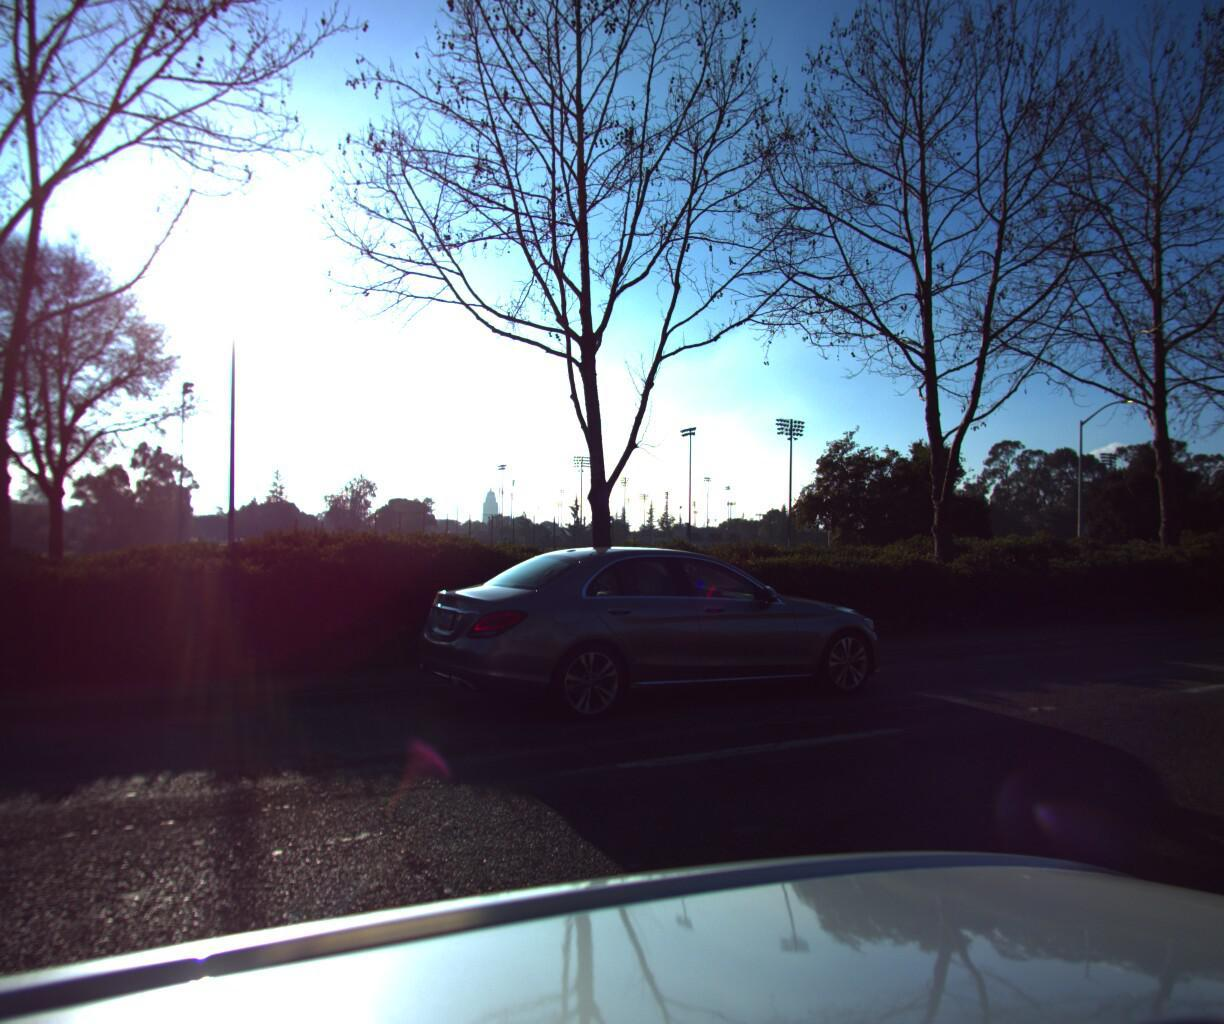car: (406, 544, 893, 738)
